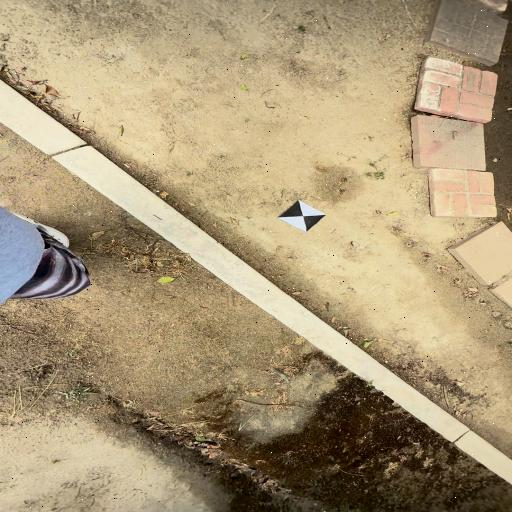target: (277, 200, 327, 232)
